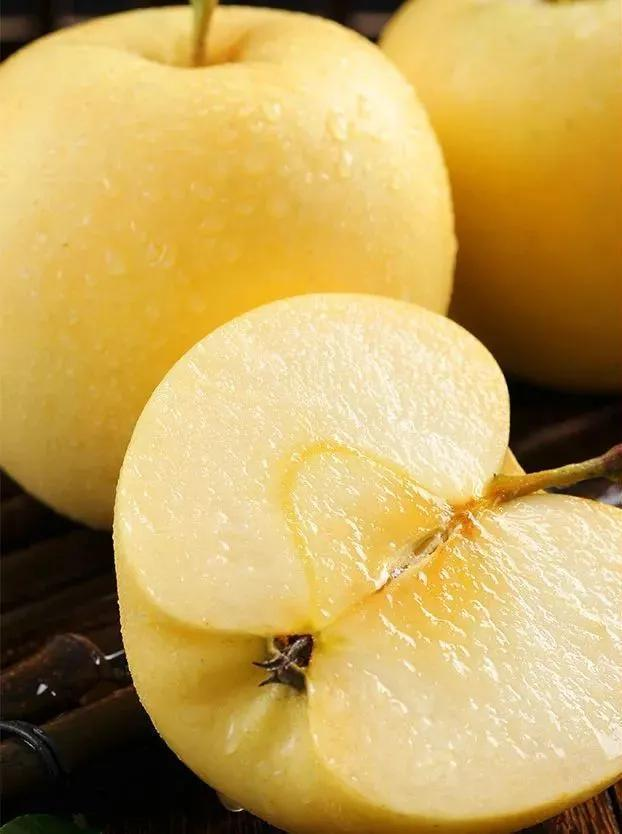apple: (108, 292, 622, 834), (1, 6, 460, 536)
